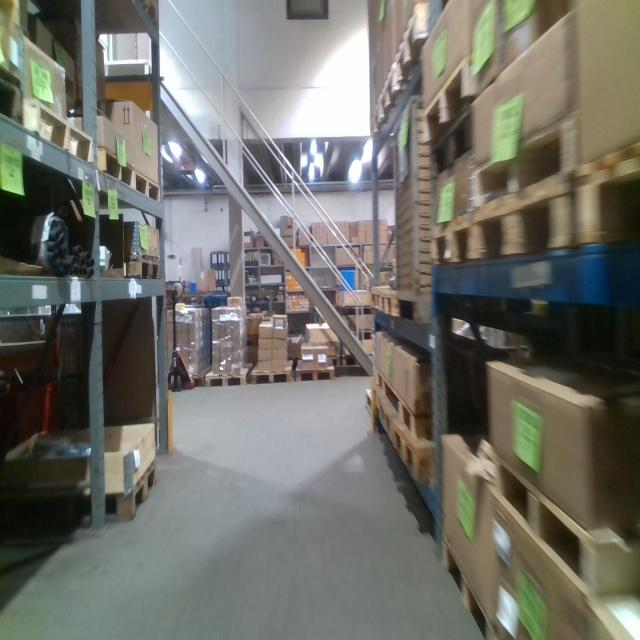pallet: (492, 453, 639, 600), (470, 165, 576, 263), (470, 113, 578, 206), (26, 455, 158, 519), (574, 141, 639, 249), (423, 48, 478, 144), (439, 531, 488, 636), (25, 100, 95, 168), (392, 415, 440, 483), (395, 5, 429, 89), (431, 206, 472, 267), (392, 386, 438, 440), (94, 143, 135, 194), (120, 256, 162, 287), (205, 361, 251, 389), (1, 72, 23, 129), (133, 168, 162, 211), (379, 63, 397, 125), (378, 392, 398, 444), (251, 362, 293, 386), (296, 363, 334, 383), (372, 365, 391, 401), (381, 289, 398, 318), (372, 103, 382, 135), (370, 287, 382, 312)
pallet_truck: (162, 273, 200, 393)
stillage: (393, 86, 435, 325)
